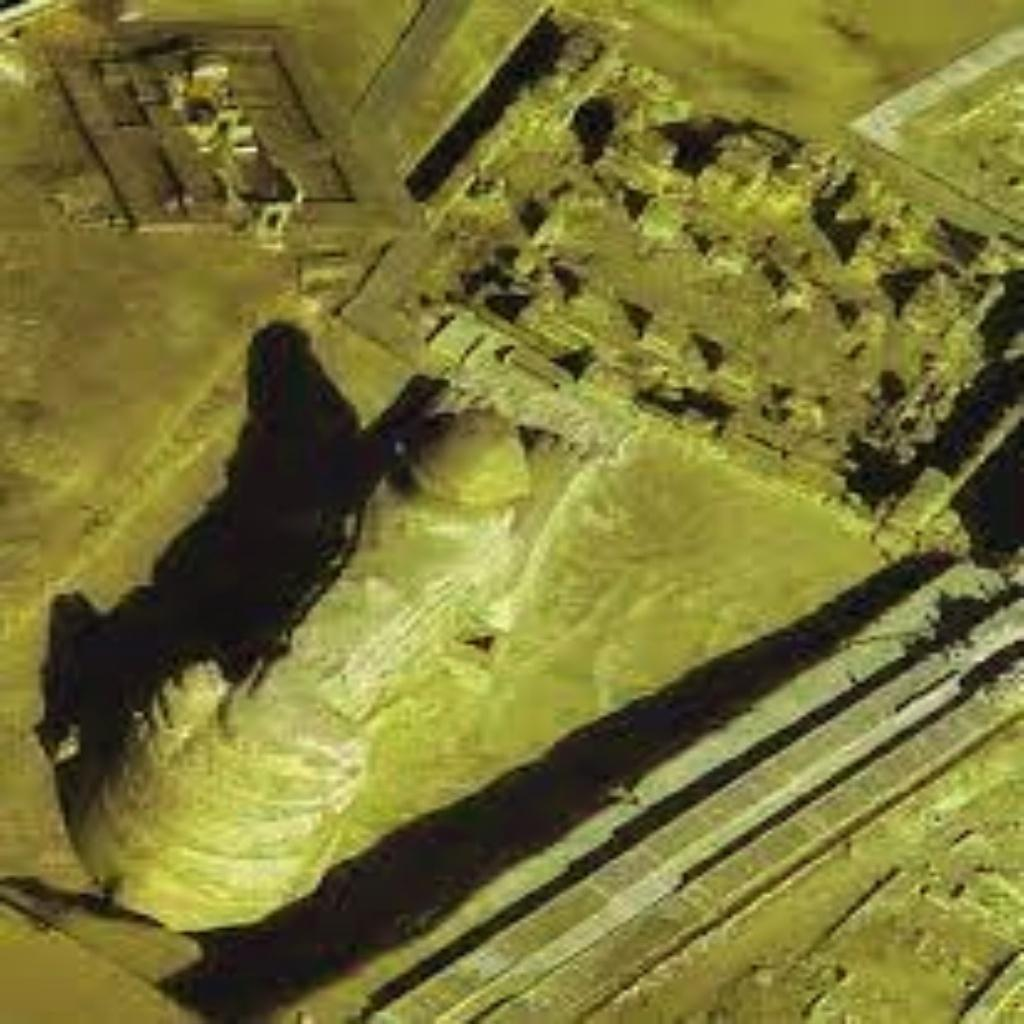Sphinx: (30, 308, 896, 932)
